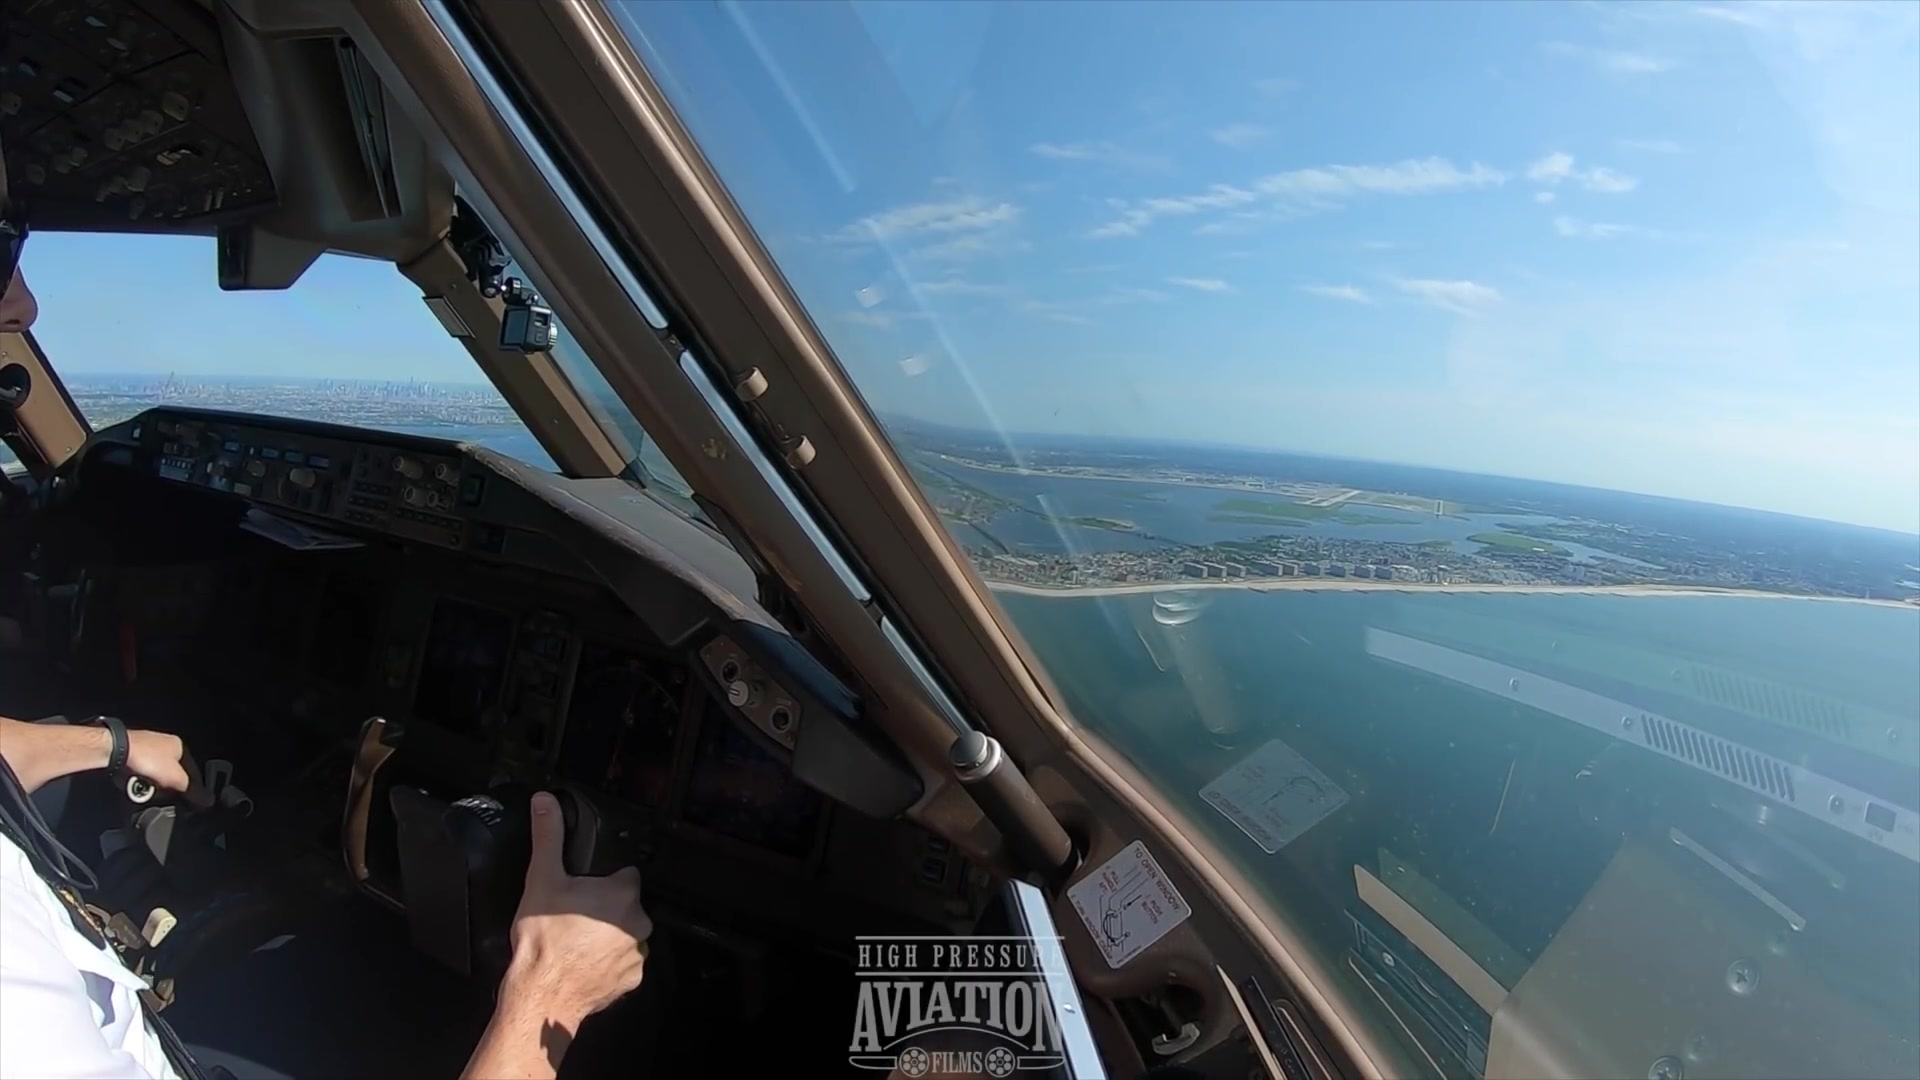runway: (1319, 489, 1362, 506), (1433, 500, 1444, 517)
